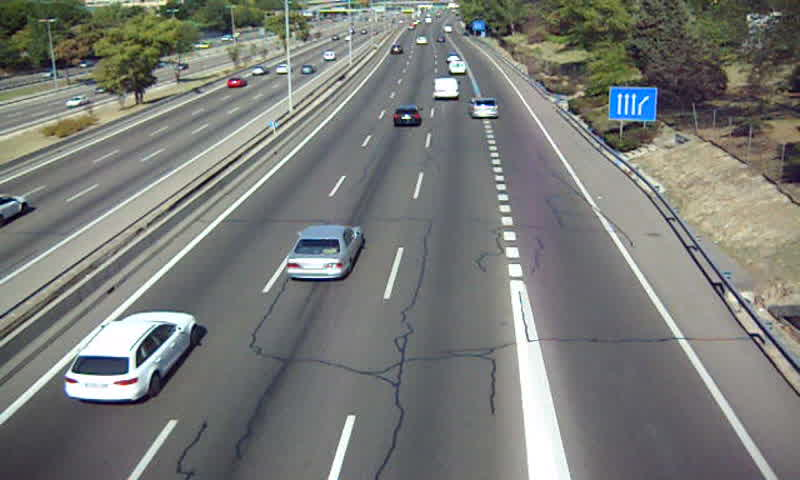car: (65, 311, 197, 404), (284, 224, 364, 280), (470, 97, 501, 121), (391, 105, 422, 127)
van: (433, 77, 460, 101), (450, 60, 467, 76)
